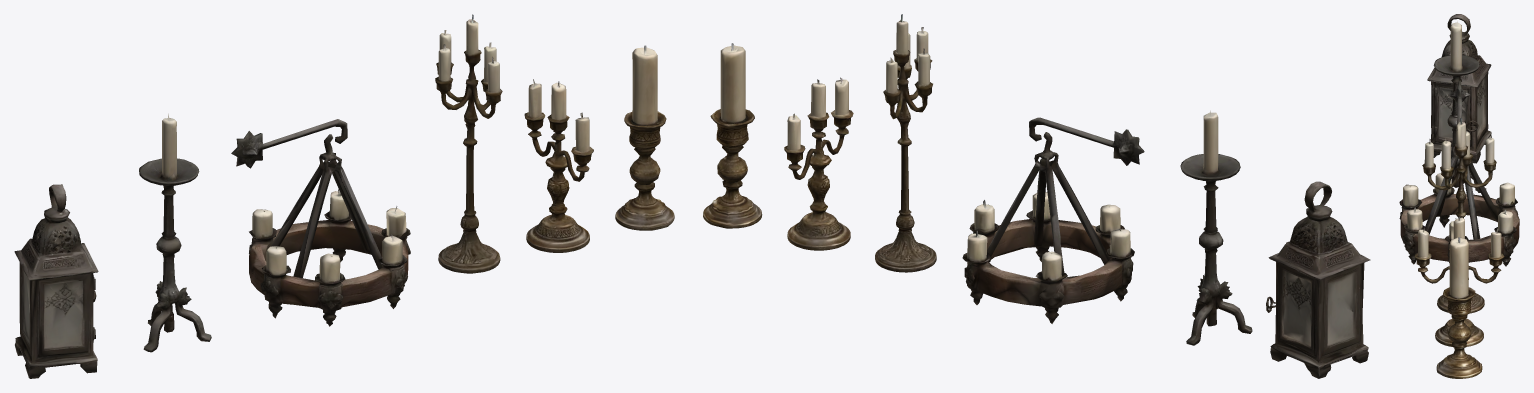
File: lamps_candles.glb
The picture shows the model from 3 angles, left to right: view 1: azimuth 30°, elevation 25°; view 2: azimuth 150°, elevation 25°; view 3: azimuth 270°, elevation 25°; orthographic projection. The views are drawn at different scales.
Visible parts, largest first — view 1: chandelier_crown, candle_lantern_box, candelabra_floor, candelabra_table, candle_pillar, candlestick_iron; view 2: chandelier_crown, candle_lantern_box, candelabra_floor, candelabra_table, candle_pillar, candlestick_iron; view 3: chandelier_crown, candle_lantern_box, candle_pillar, candelabra_floor, candelabra_table, candlestick_iron.
Part boxes in pixels (box(x1,y1,x2,y2)): chandelier_crown: box(231, 119, 410, 326); candle_lantern_box: box(14, 184, 98, 378); candelabra_floor: box(435, 14, 502, 273); candelabra_table: box(524, 79, 593, 252); candle_pillar: box(615, 45, 674, 230); candlestick_iron: box(139, 113, 211, 352); chandelier_crown: box(962, 117, 1144, 323); candle_lantern_box: box(1266, 181, 1370, 378); candelabra_floor: box(875, 14, 936, 272); candelabra_table: box(784, 77, 853, 250); candle_pillar: box(703, 43, 762, 228); candlestick_iron: box(1180, 110, 1252, 345); chandelier_crown: box(1399, 80, 1519, 266); candle_lantern_box: box(1427, 14, 1491, 163); candle_pillar: box(1436, 237, 1482, 378); candelabra_floor: box(1422, 118, 1496, 313); candelabra_table: box(1414, 216, 1504, 346); candlestick_iron: box(1433, 21, 1486, 192).
Size of the model in its own units: 1.17 by 0.4181 by 0.2424.
1 material, 1 textured.
